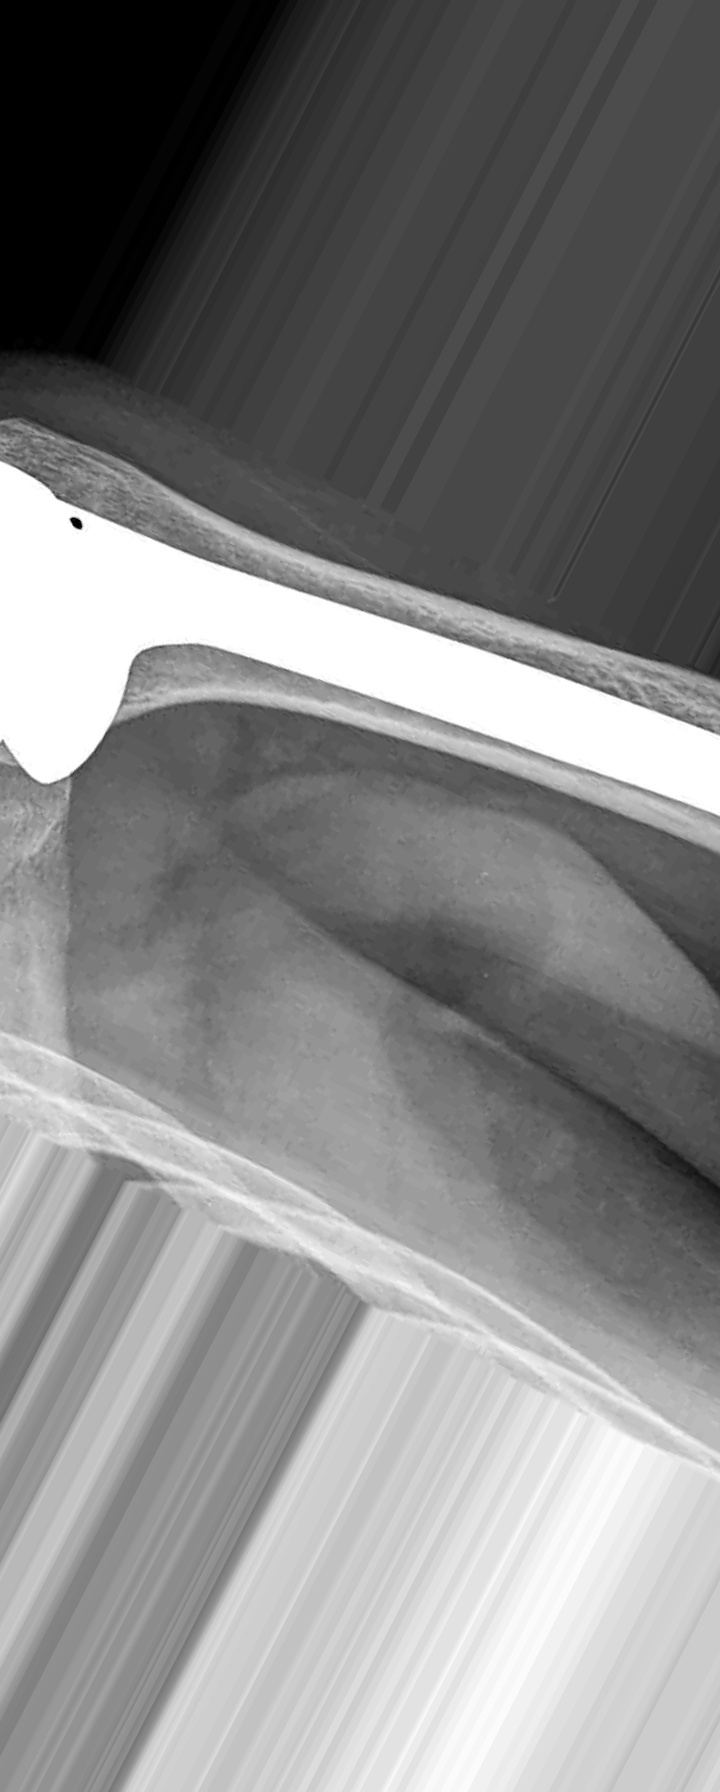Shoulder-Reverse-DJO: (1, 416, 720, 840)
